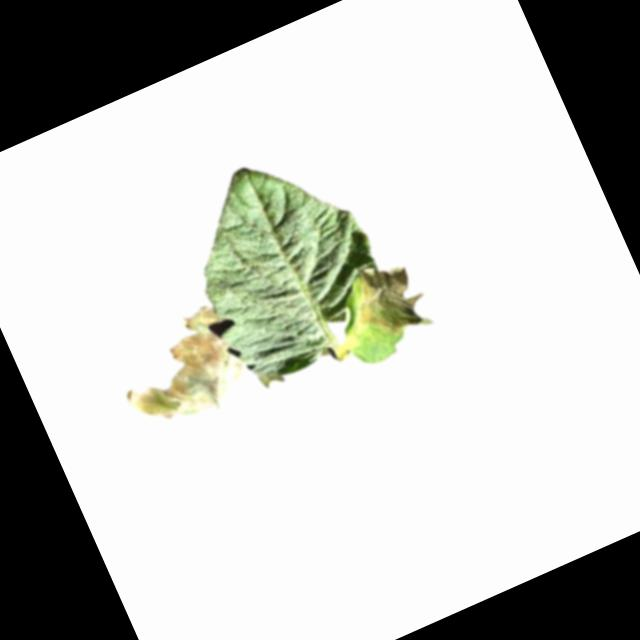Late_blight: (104, 300, 258, 443), (341, 252, 435, 351)
